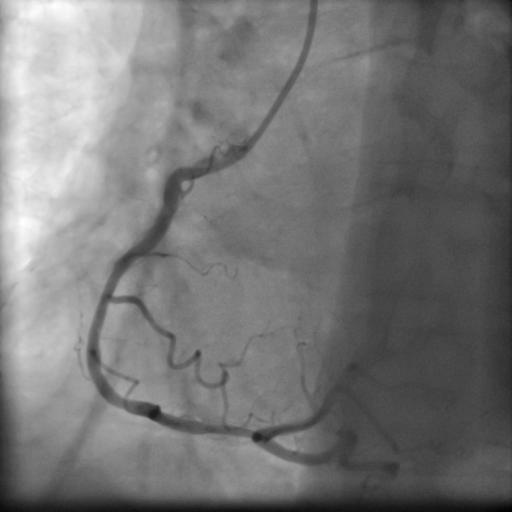Stenosis: (198, 414, 254, 445)
